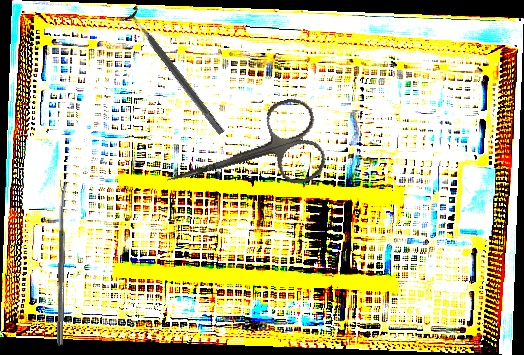Fixation Ring: (117, 5, 232, 141)
Iris Scissors: (154, 93, 331, 220)
Surgical Spoon: (57, 180, 67, 347)
